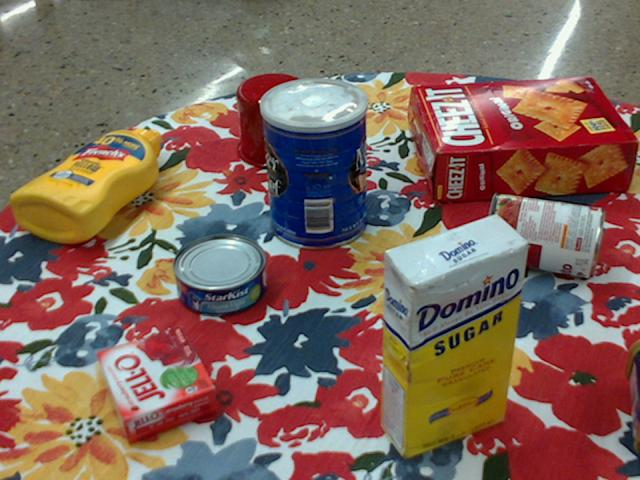cracker_box: (412, 78, 639, 204)
gelatin_box: (98, 329, 218, 447)
master_chef_can: (260, 77, 368, 250)
mug: (237, 73, 332, 169)
mustard_bottle: (10, 128, 161, 242)
potted_meat_can: (629, 338, 639, 448)
sugar_box: (382, 212, 528, 461)
tomato_soup_can: (486, 192, 606, 275)
tuna_fish_can: (172, 235, 266, 317)
